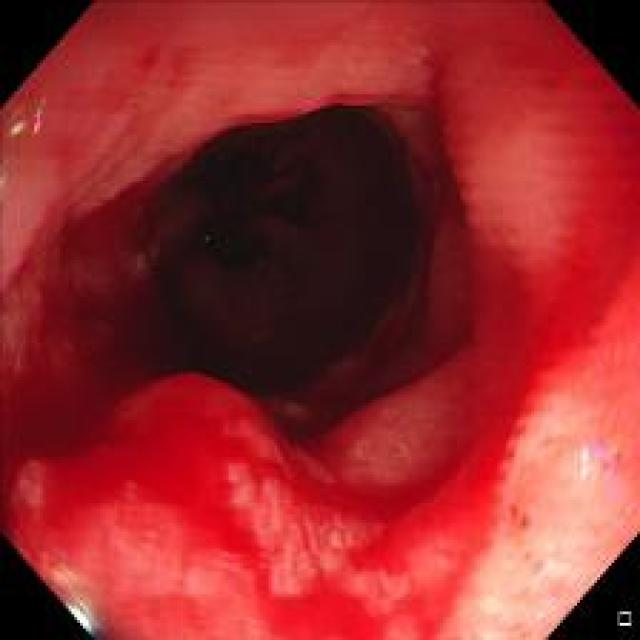blood: (30, 386, 500, 621), (445, 176, 615, 401), (25, 166, 166, 420)
blur: (32, 452, 404, 619), (499, 404, 630, 608)
color misalignment: (599, 436, 625, 510), (9, 94, 46, 135)
contrast: (145, 100, 424, 390)
specularity: (64, 596, 96, 629), (579, 442, 591, 480)
